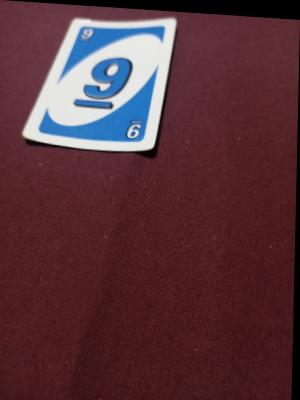blue: (71, 27, 145, 141)
num_9: (76, 26, 96, 43)
